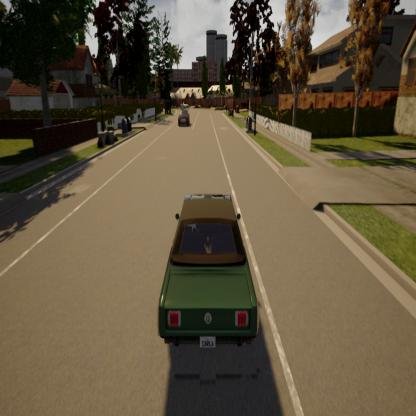Cars: (153, 212, 253, 358), (177, 108, 191, 131)
